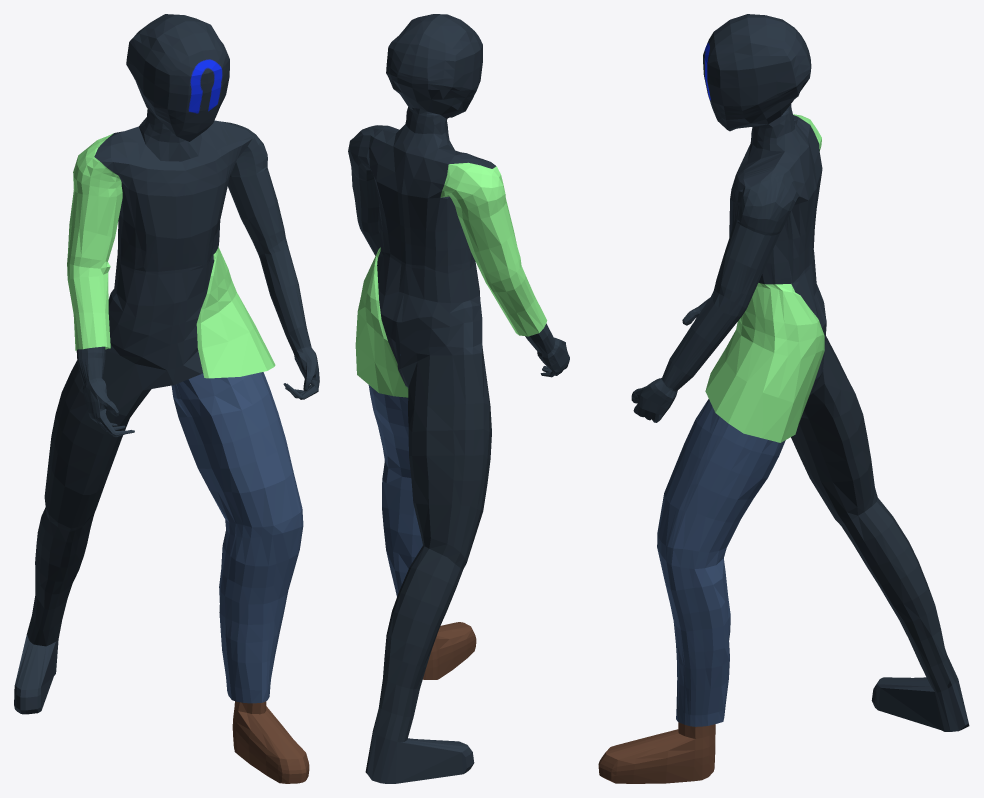
File: Mar_Recover_000028.obj
3 renders of one model, left to right at view 1: azimuth 30°, elevation 25°; view 2: azimuth 150°, elevation 25°; view 3: azimuth 270°, elevation 25°, orthographic. The views are drawn at different scales.
Visible parts, largest first — view 1: Cube.000_Cube.001; view 2: Cube.000_Cube.001; view 3: Cube.000_Cube.001.
Part boxes in pixels (left/top/right/bottom): Cube.000_Cube.001: left=14, top=14, right=319, bottom=783; Cube.000_Cube.001: left=348, top=14, right=569, bottom=783; Cube.000_Cube.001: left=598, top=14, right=969, bottom=783.
Bounding box in the file's own units: 1.13 × 3.81 × 1.74.
